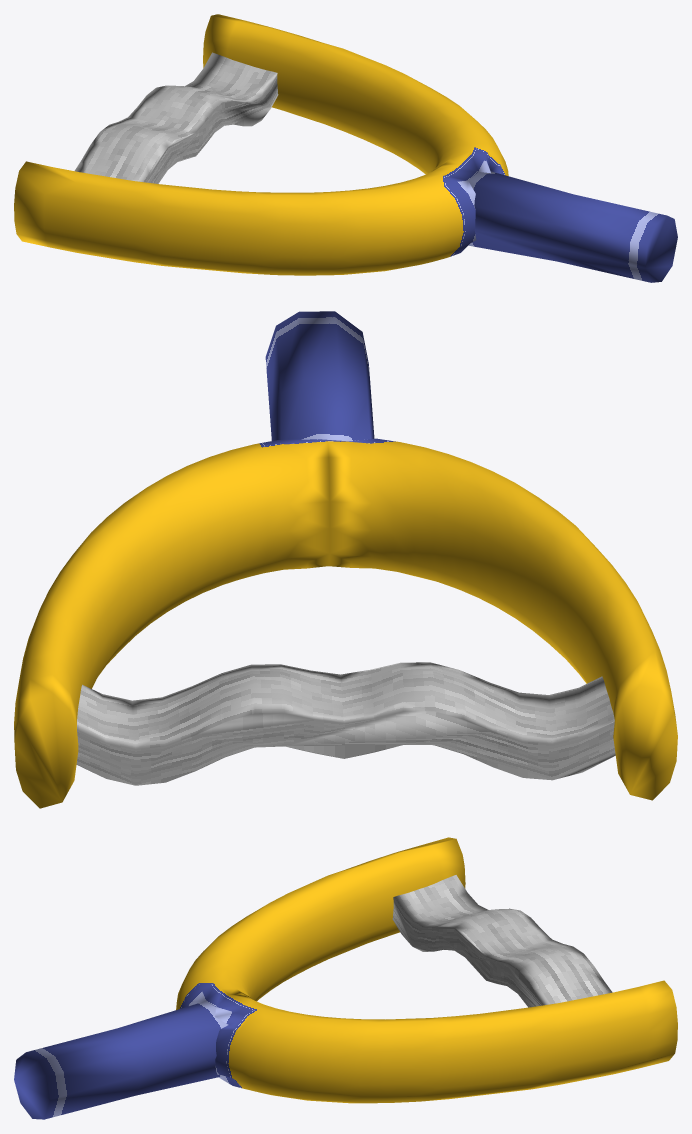
File: slingshot.glb
3 renders of one model, top to bottom at view 1: azimuth 30°, elevation 25°; view 2: azimuth 150°, elevation 25°; view 3: azimuth 270°, elevation 25°, orthographic. The views are drawn at different scales.
Size of the model in its own units: 7.47 by 1.22 by 9.08.
1 material, 1 textured.
